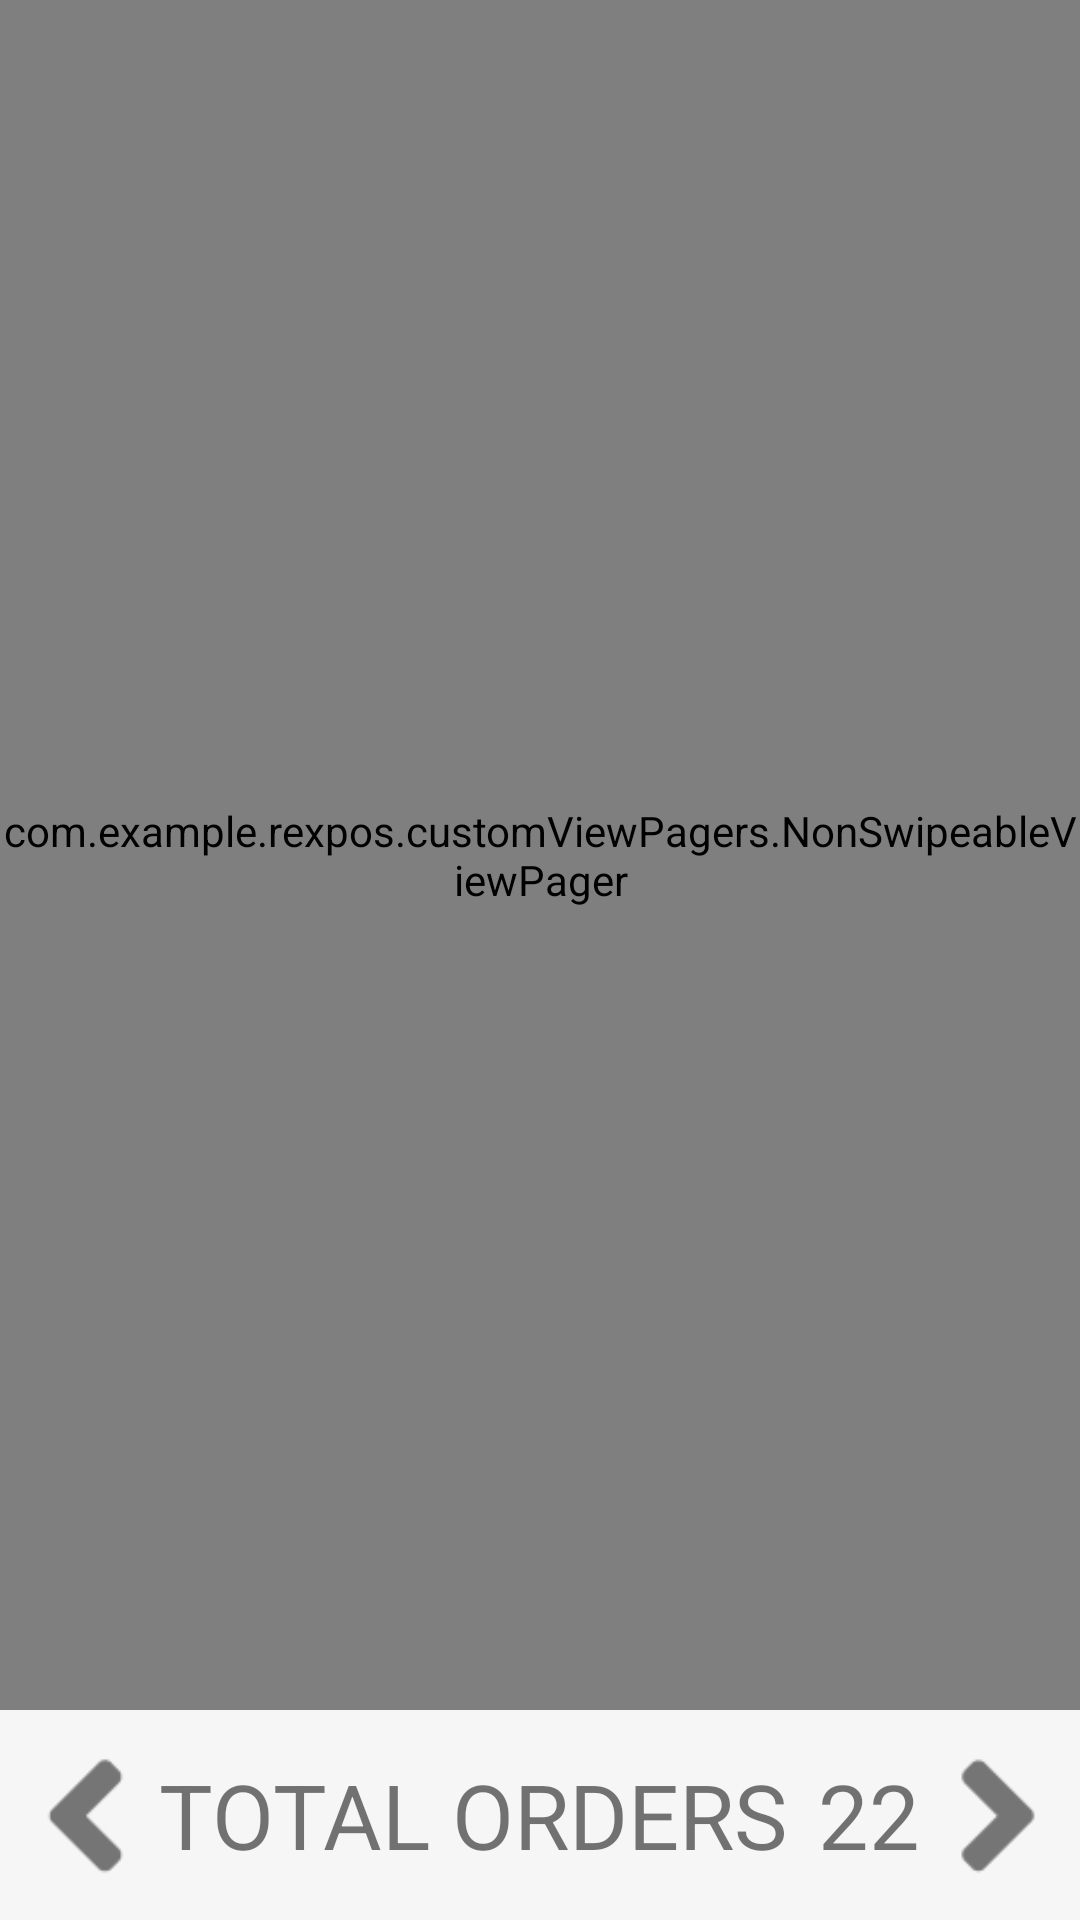

Point at icon controls on the screen. Image size 1080x1920, points as (x=x, y=y).
next: (x=998, y=1815)
